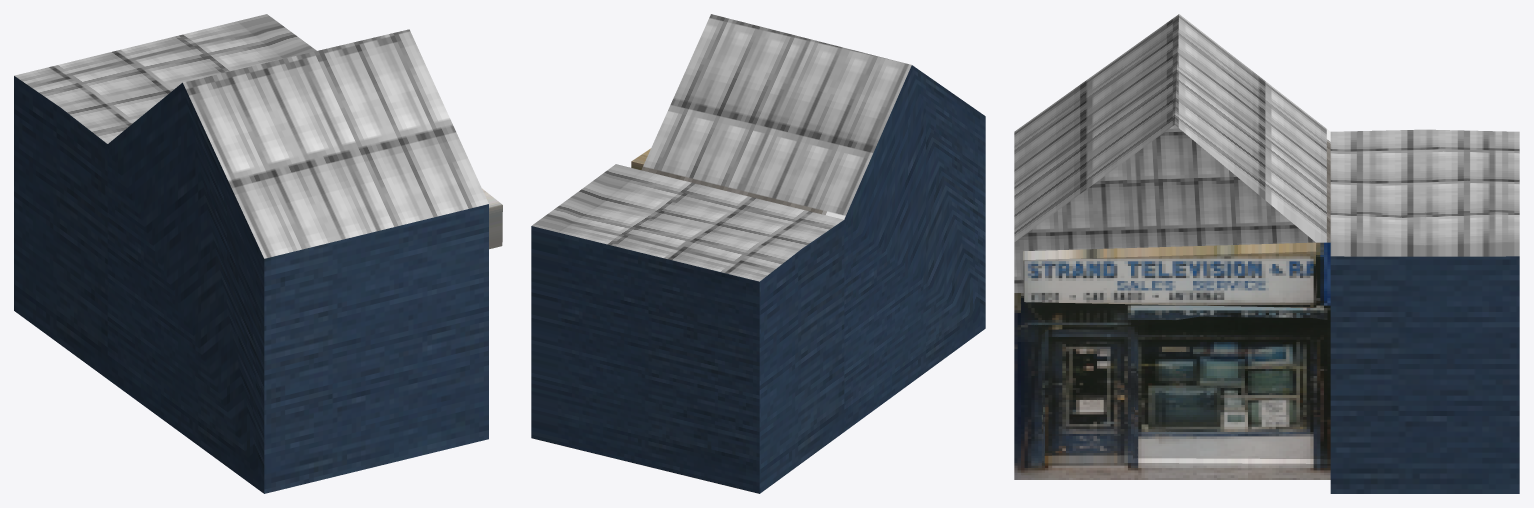
File: Tv Store.fbx
The picture shows the model from 3 angles, left to right: view 1: azimuth 30°, elevation 25°; view 2: azimuth 150°, elevation 25°; view 3: azimuth 270°, elevation 25°; orthographic projection. The views are drawn at different scales.
Parts seen in each view (by area): view 1: Cube; view 2: Cube; view 3: Cube.
Boxes of the visible parts, box(x1,y1,x2,y2) form: Cube: box(14, 14, 502, 493); Cube: box(531, 14, 985, 493); Cube: box(1014, 14, 1519, 493).
Bounding box in the file's own units: 578 × 768 × 991.
Materials: 1 (1 with a texture image).
